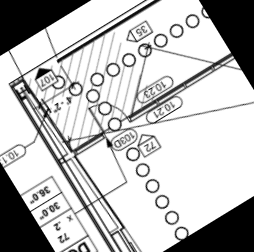door: (84, 91, 134, 141)
